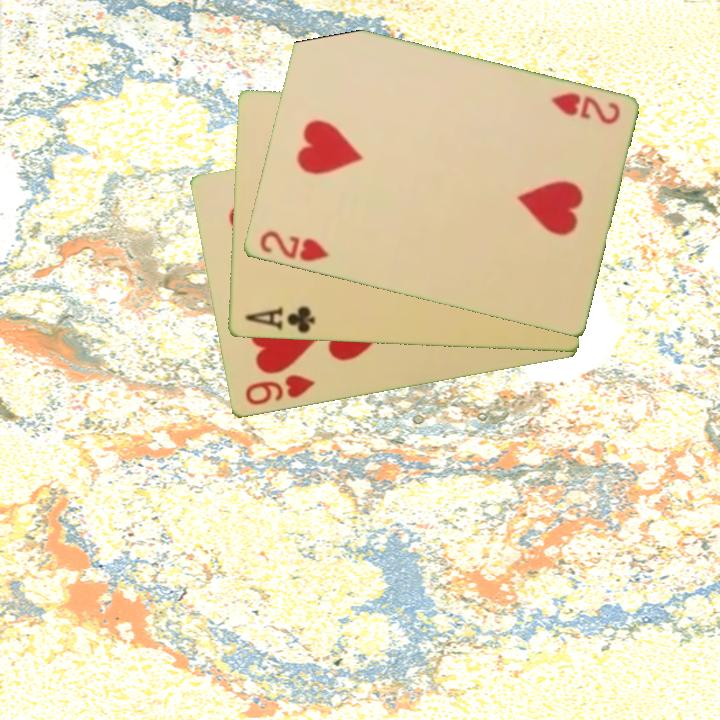2h: (547, 89, 623, 128), (255, 227, 332, 265)
9h: (241, 371, 317, 409)
Ac: (240, 303, 318, 336)
